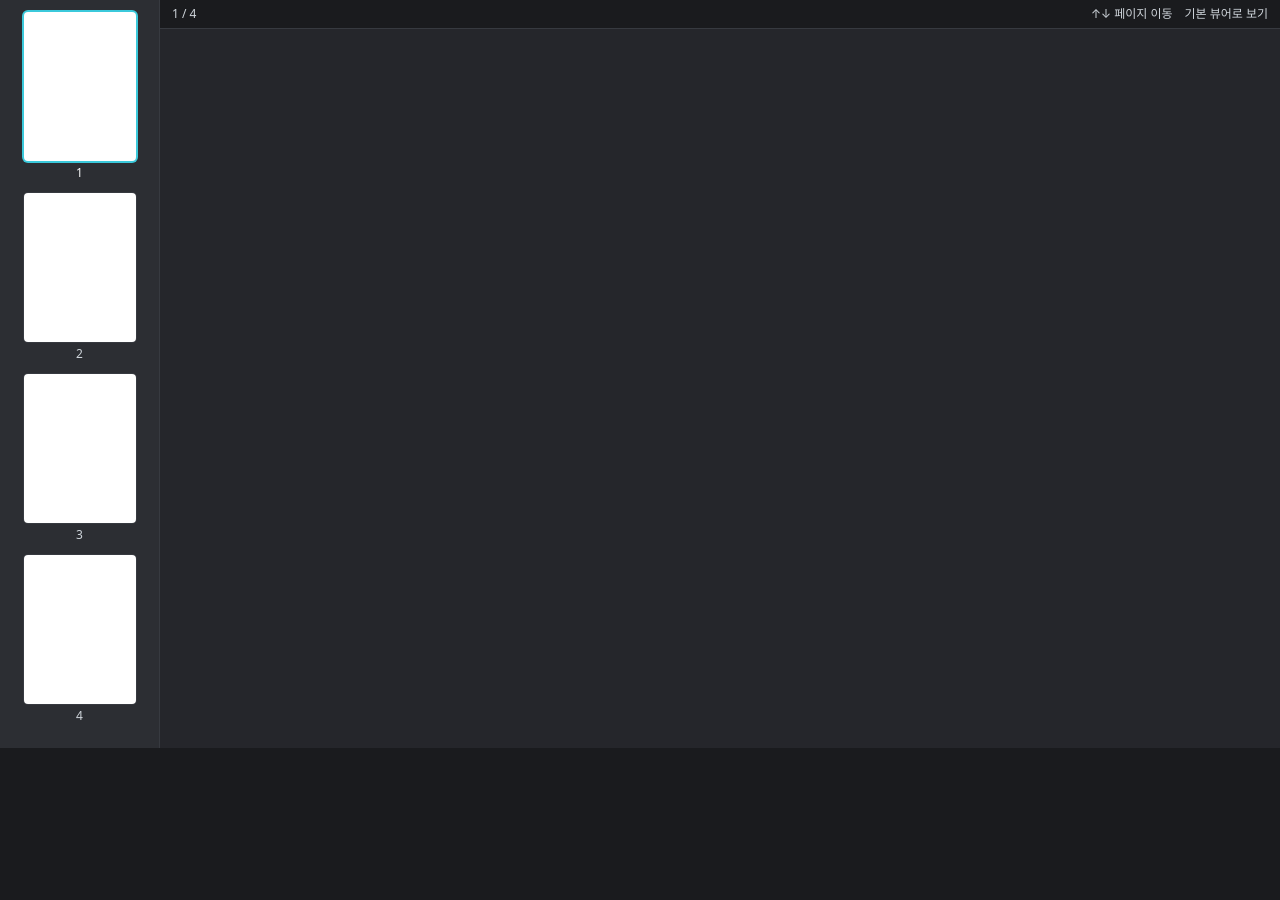
Test: QuickPreviewPdfView › goes to a page when its thumbnail is clicked
Click the button named "3페이지로 이동": [80, 458] box [24,374,136,543]
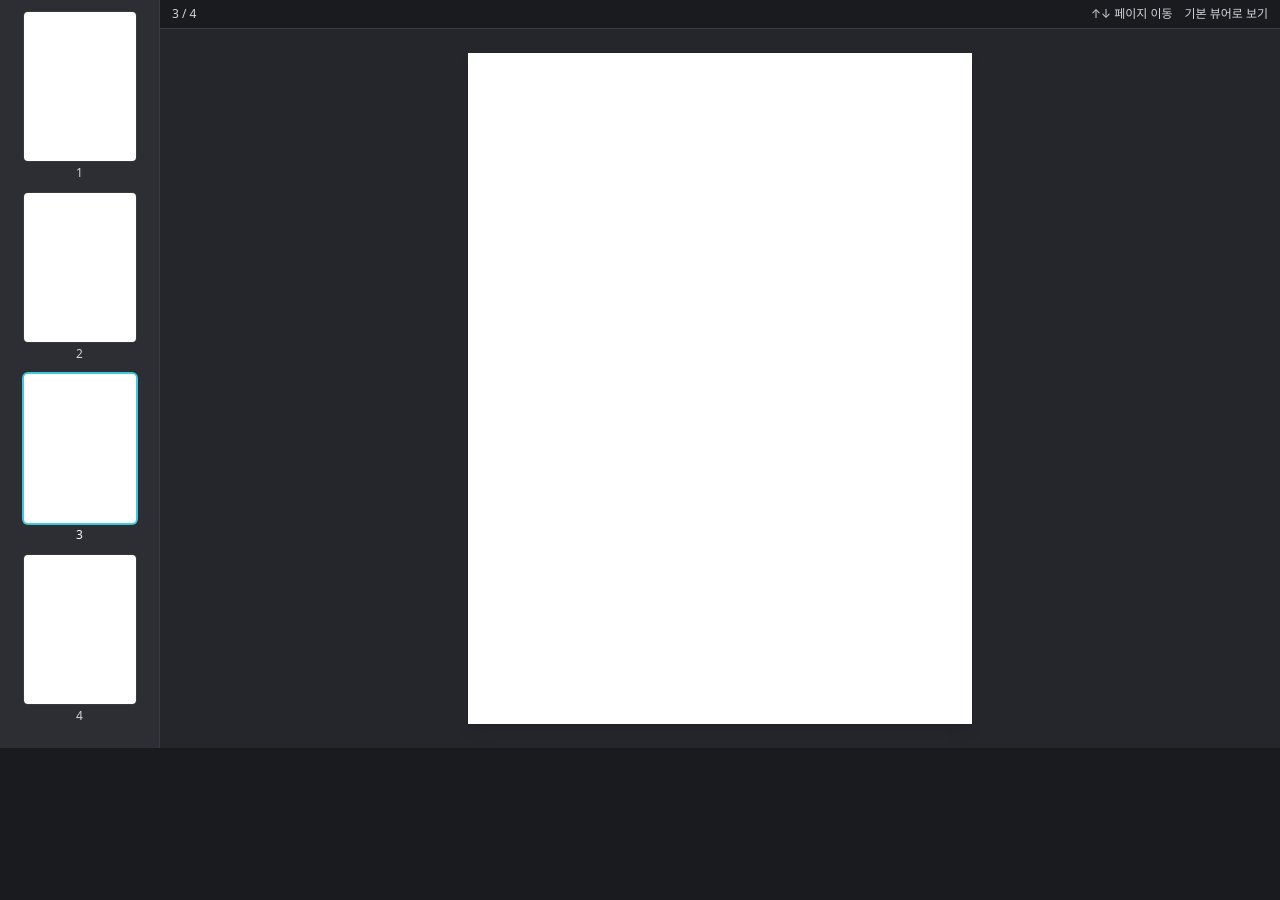
Expected: the text "3 / 4" is shown, [172,6,196,22]
